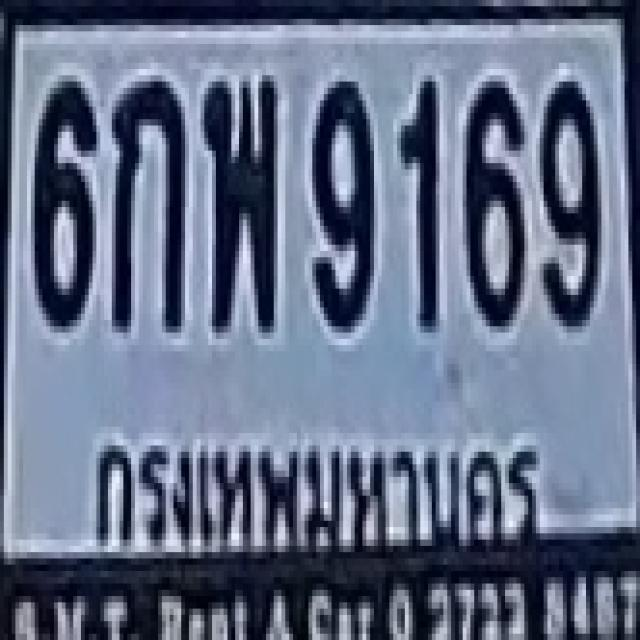-: (200, 69, 274, 326), (108, 76, 181, 327)
1: (397, 76, 436, 327)
6: (31, 75, 92, 320), (462, 75, 520, 320)
9: (309, 76, 370, 327), (538, 76, 599, 327)
BKK: (75, 414, 562, 574)
